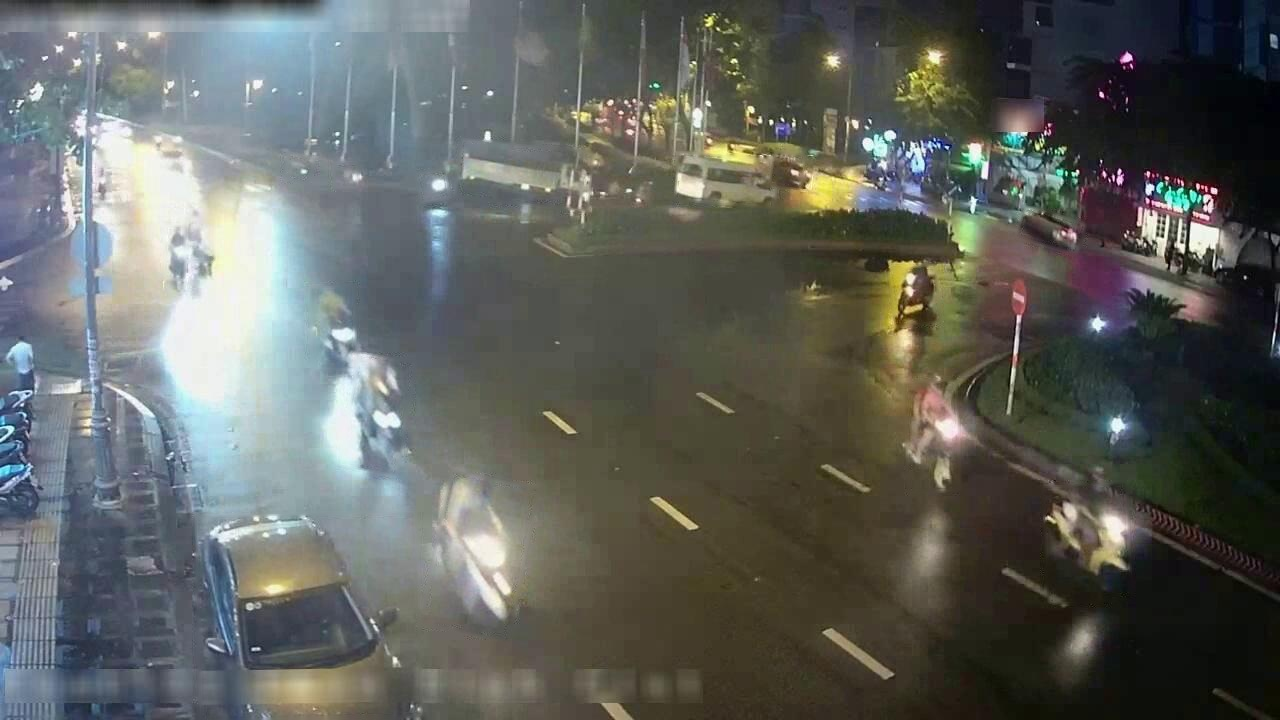Bus: (674, 156, 774, 207)
Car: (201, 515, 389, 670), (432, 476, 518, 626), (1021, 213, 1077, 249), (771, 155, 810, 189)
Motorcycle: (0, 463, 39, 516), (897, 264, 934, 318), (0, 441, 27, 467)
Motorcyclist: (1044, 495, 1129, 589), (348, 352, 409, 467), (903, 378, 961, 491), (314, 288, 356, 367), (0, 334, 35, 414), (186, 211, 215, 275), (168, 228, 191, 289), (419, 172, 451, 205), (283, 153, 315, 184), (334, 165, 364, 193)
Sign: (1011, 279, 1027, 316)
Traffic light: (1100, 50, 1136, 111)
Truck: (460, 142, 579, 202)
